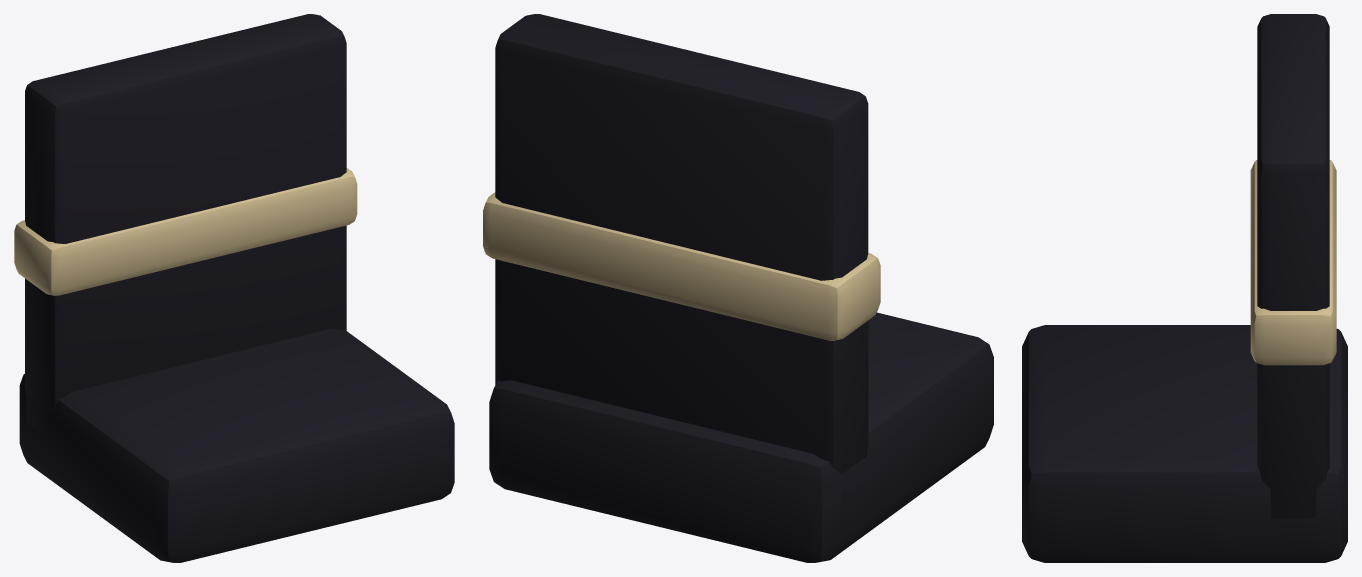
File: Ninja_Foot.fbx
3 renders of one model, left to right at view 1: azimuth 30°, elevation 25°; view 2: azimuth 150°, elevation 25°; view 3: azimuth 270°, elevation 25°, orthographic. The views are drawn at different scales.
Parts seen in each view (by area): view 1: Ninja_Foot; view 2: Ninja_Foot; view 3: Ninja_Foot.
Boxes of the visible parts, x1=… form: Ninja_Foot: x1=14, y1=14, x2=454, y2=562; Ninja_Foot: x1=483, y1=14, x2=993, y2=562; Ninja_Foot: x1=1022, y1=14, x2=1347, y2=562.
Size of the model in its own units: 0.084 by 0.1 by 0.072.
